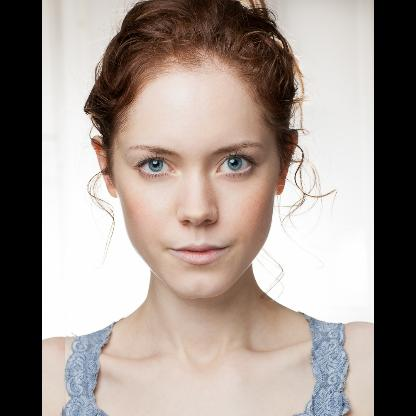Female: (90, 52, 300, 298)
